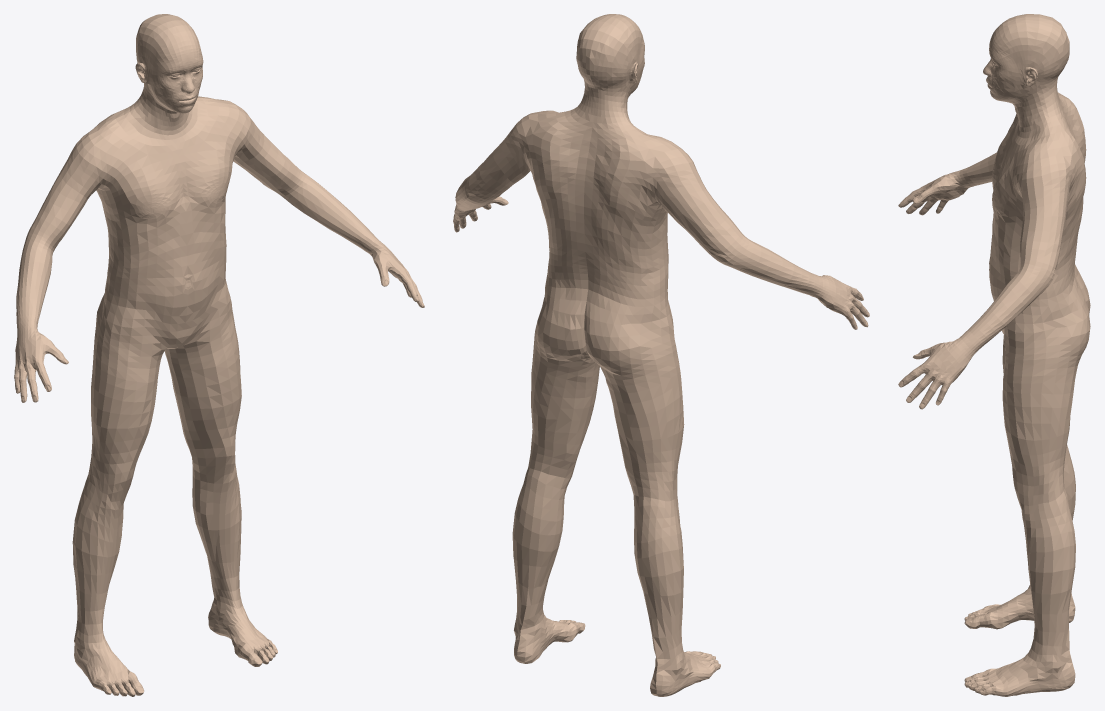
The model's file is male-adult-heavy-medium.glb.
The picture shows the model from 3 angles, left to right: view 1: azimuth 30°, elevation 25°; view 2: azimuth 150°, elevation 25°; view 3: azimuth 270°, elevation 25°; orthographic projection.
Parts seen in each view (by area): view 1: world; view 2: world; view 3: world.
Boxes of the visible parts, x1,y1,x2,y2 form: world: [14, 14, 424, 696]; world: [453, 14, 869, 696]; world: [898, 14, 1090, 696].
Bounding box in the file's own units: 1.28 × 1.95 × 0.5301.
